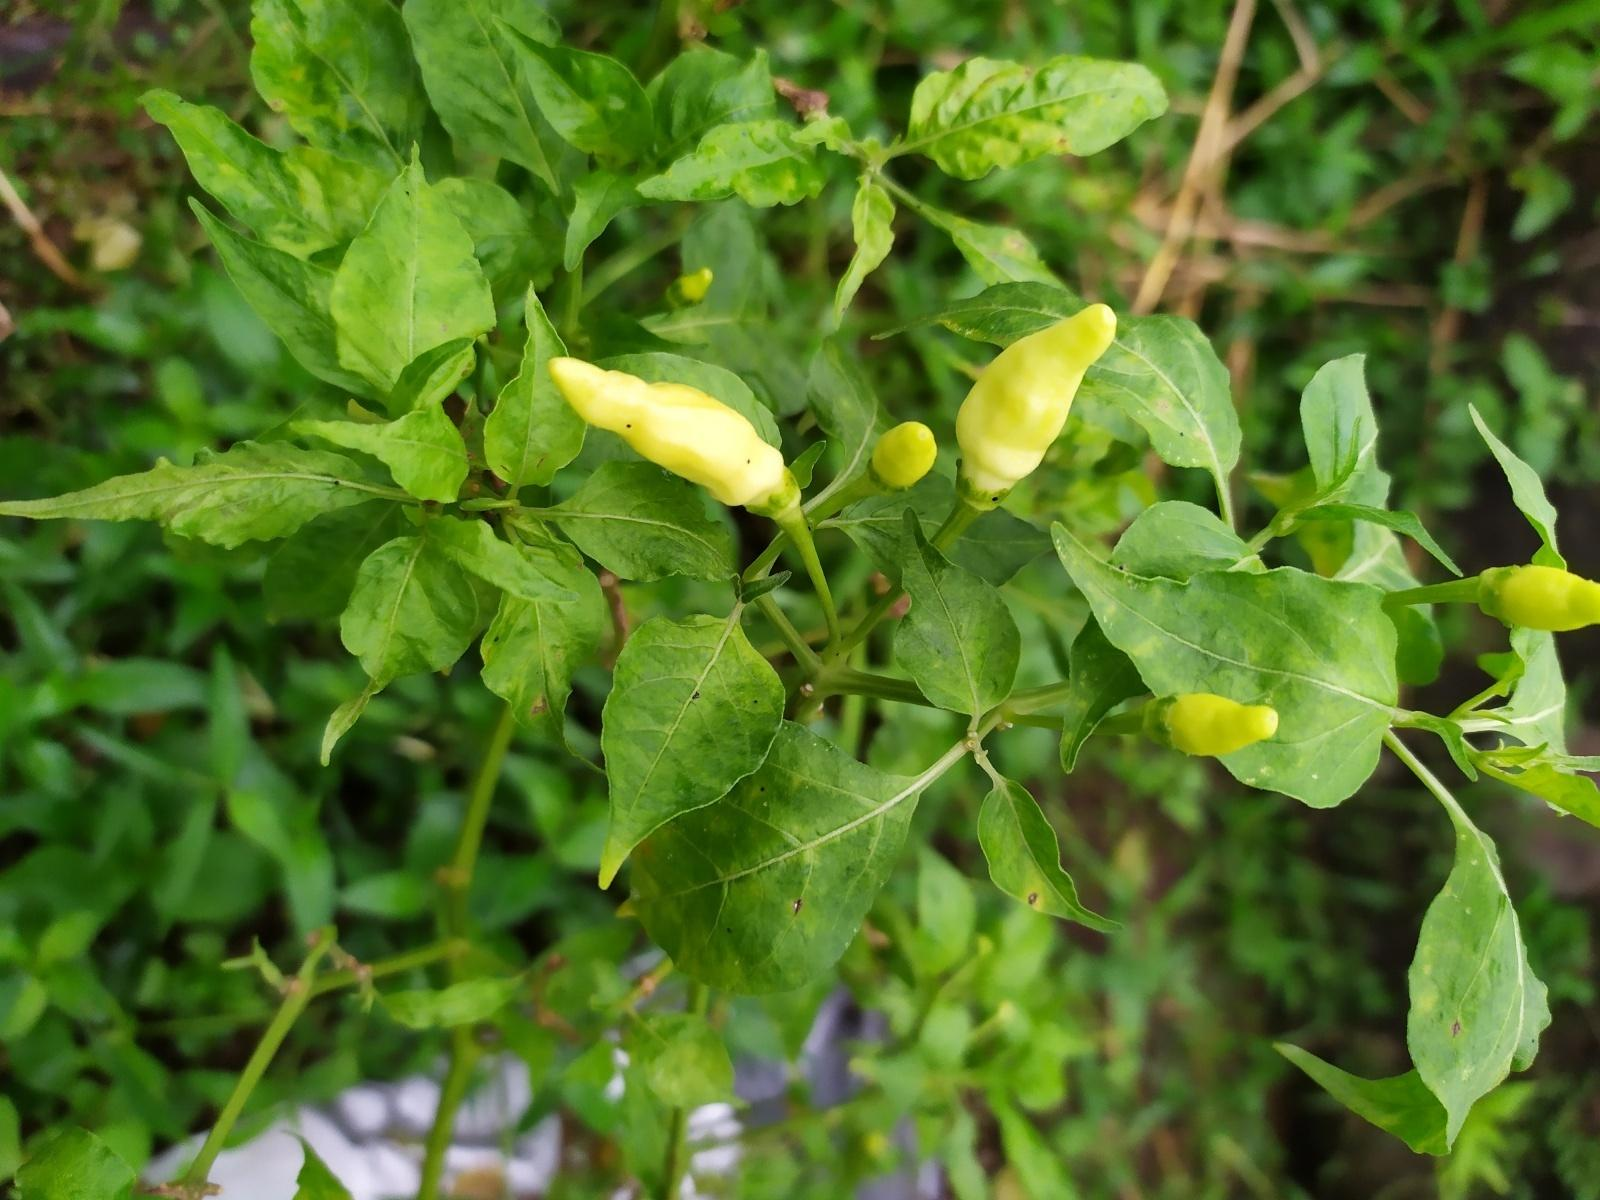cabai_normal: (549, 357, 789, 513), (955, 303, 1119, 494), (1478, 563, 1599, 633), (1163, 692, 1281, 755), (869, 421, 939, 492)
